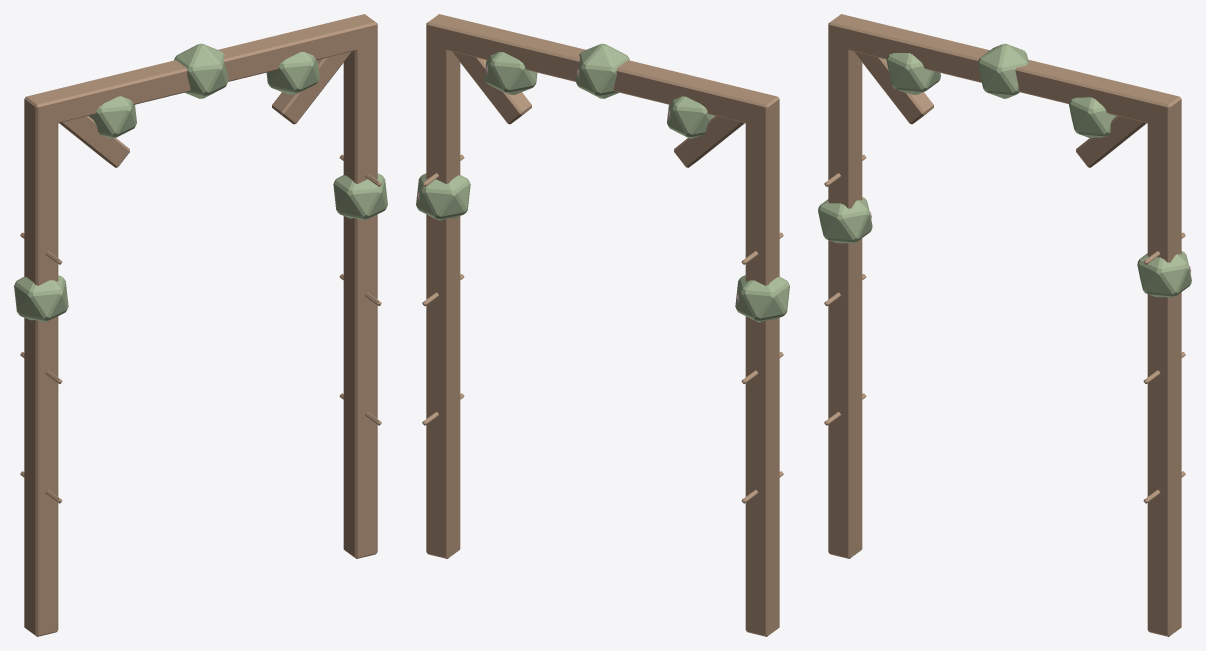
The model's file is SM_Garden_Arch.fbx.
3 renders of one model, left to right at view 1: azimuth 30°, elevation 25°; view 2: azimuth 150°, elevation 25°; view 3: azimuth 330°, elevation 25°, orthographic.
Parts seen in each view (by area): view 1: Garden_Arch; view 2: Garden_Arch; view 3: Garden_Arch.
Boxes of the visible parts, x1,y1,x2,y2 form: Garden_Arch: (14, 14, 387, 636); Garden_Arch: (416, 14, 789, 636); Garden_Arch: (818, 14, 1191, 636).
Size of the model in its own units: 161 by 229 by 30.
